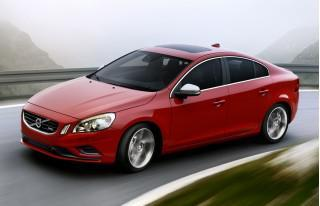volvo: (31, 114, 44, 136)
